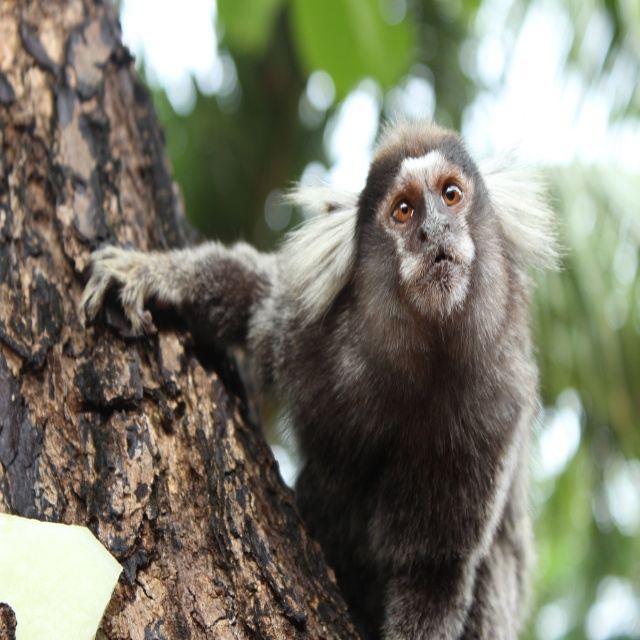Monkey: (79, 106, 572, 640)
